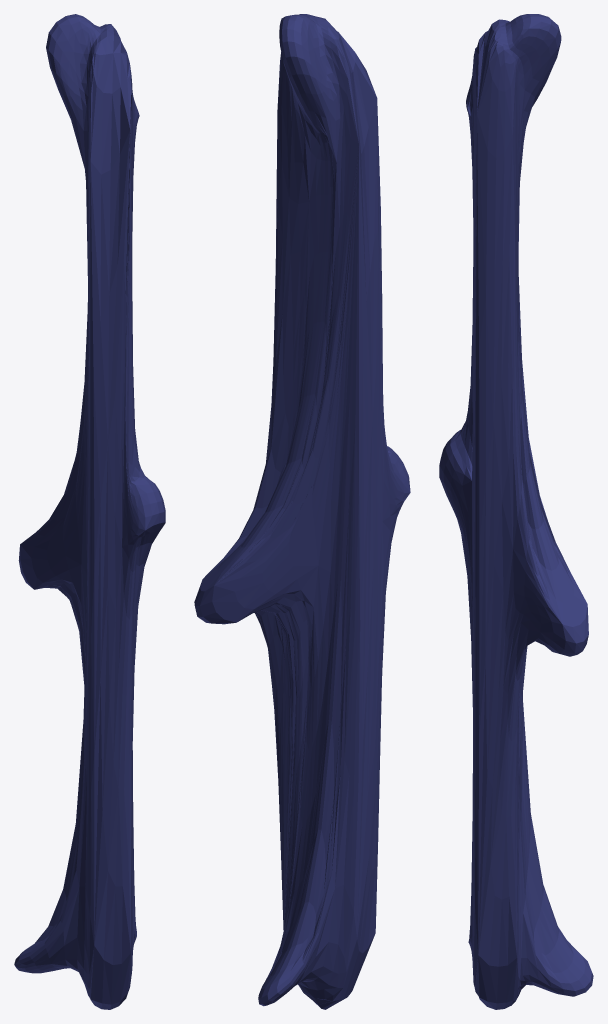
3 views of the same model, side by side, from view 1: azimuth 90°, elevation 25°; view 2: azimuth 150°, elevation 25°; view 3: azimuth 270°, elevation 25° (orthographic).
Visible parts, largest first — view 1: 842_Cube.3399; view 2: 842_Cube.3399; view 3: 842_Cube.3399.
Boxes of the visible parts, x1,y1,x2,y2 form: 842_Cube.3399: [14, 14, 165, 1009]; 842_Cube.3399: [194, 14, 410, 1009]; 842_Cube.3399: [439, 14, 593, 1009].
Size of the model in its own units: 2.03 by 12.24 by 1.7.
